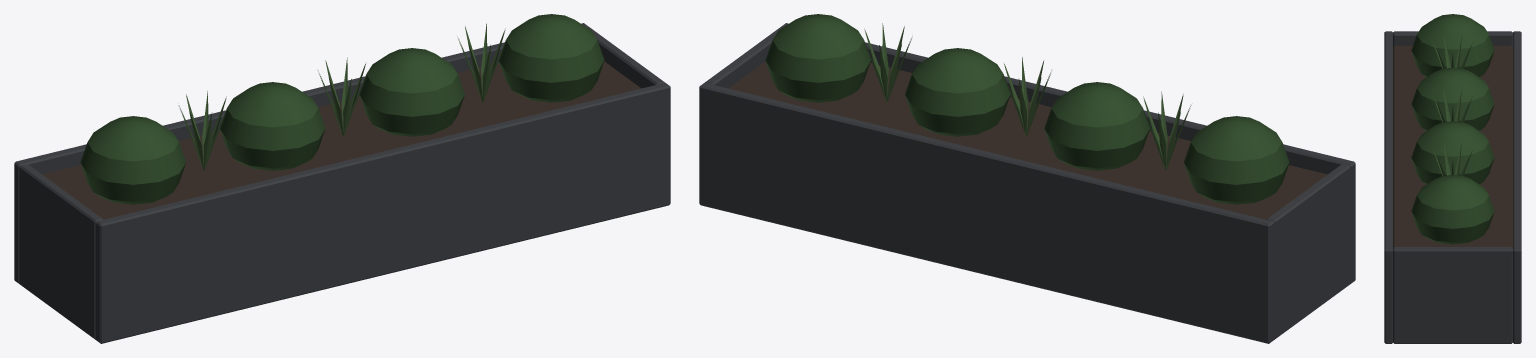
File: prop_planter_terrace.glb
3 renders of one model, left to right at view 1: azimuth 30°, elevation 25°; view 2: azimuth 150°, elevation 25°; view 3: azimuth 270°, elevation 25°, orthographic. The views are drawn at different scales.
Parts seen in each view (by area): view 1: Planter; view 2: Planter; view 3: Planter.
Part boxes in pixels (x1,y1,x2,y2): Planter: [14, 14, 670, 343]; Planter: [699, 14, 1355, 343]; Planter: [1384, 14, 1521, 343].
Size of what is drawn, in the model's own units: 2.99 by 0.8805 by 0.79.
